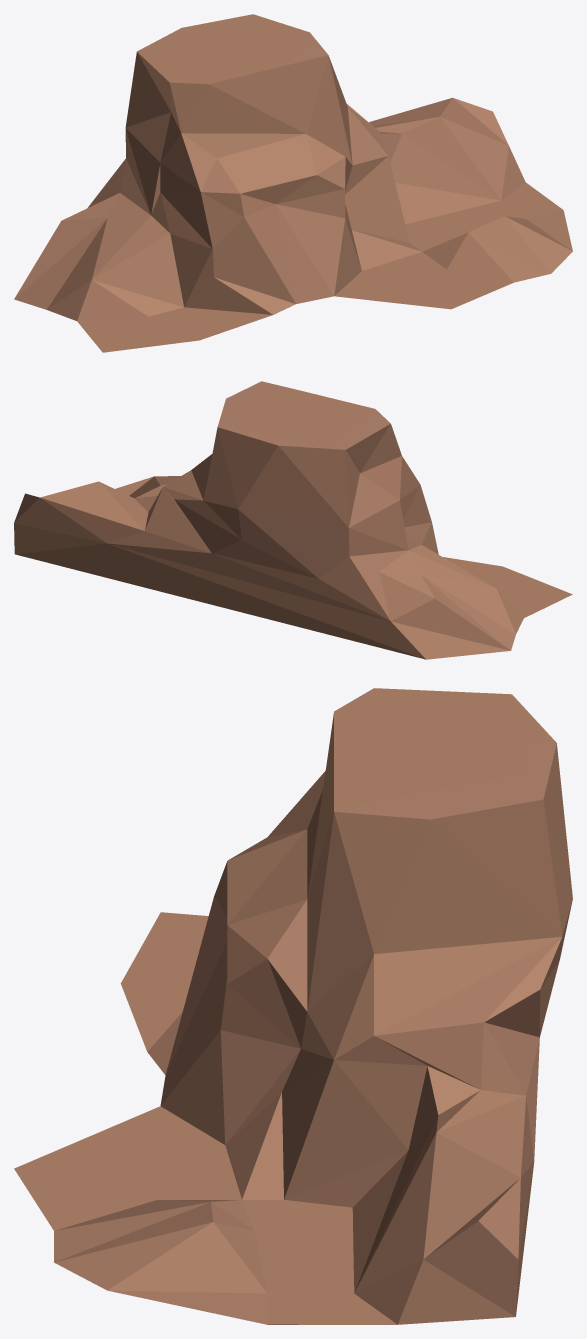
The model's file is 06 Mountain.FBX.
3 renders of one model, top to bottom at view 1: azimuth 30°, elevation 25°; view 2: azimuth 150°, elevation 25°; view 3: azimuth 270°, elevation 25°, orthographic. The views are drawn at different scales.
Parts seen in each view (by area): view 1: Mountain; view 2: Mountain; view 3: Mountain.
Part boxes in pixels (x1=…): Mountain: x1=14, y1=14, x2=572, y2=352; Mountain: x1=14, y1=381, x2=572, y2=659; Mountain: x1=14, y1=688, x2=572, y2=1324.
Bounding box in the file's own units: 5604 × 2058 × 3133.
